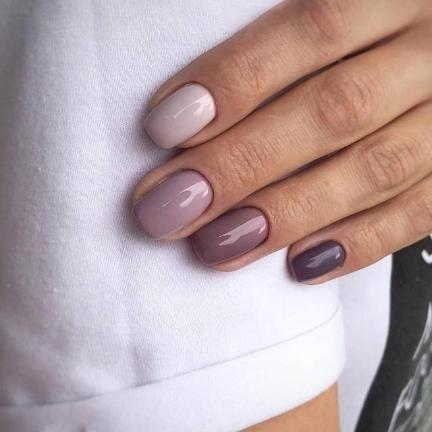Nail: (132, 170, 214, 241), (143, 83, 216, 149), (190, 207, 269, 267), (291, 240, 346, 283)
